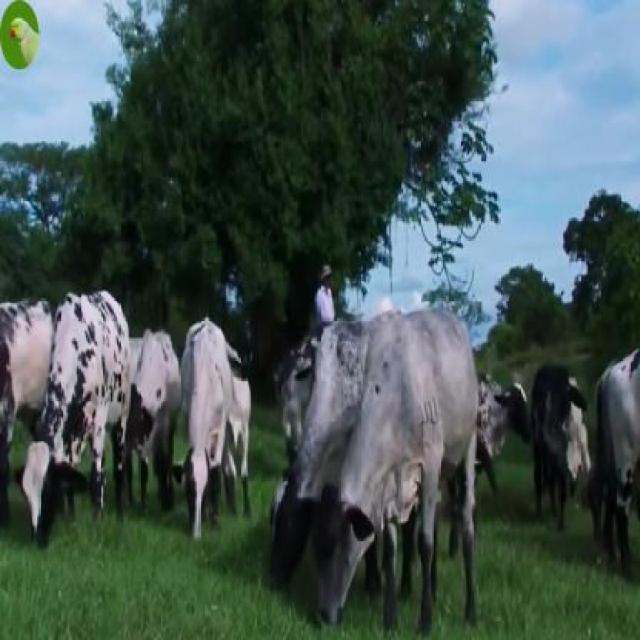Cow: (294, 310, 478, 632), (22, 292, 129, 550), (175, 318, 231, 542)
